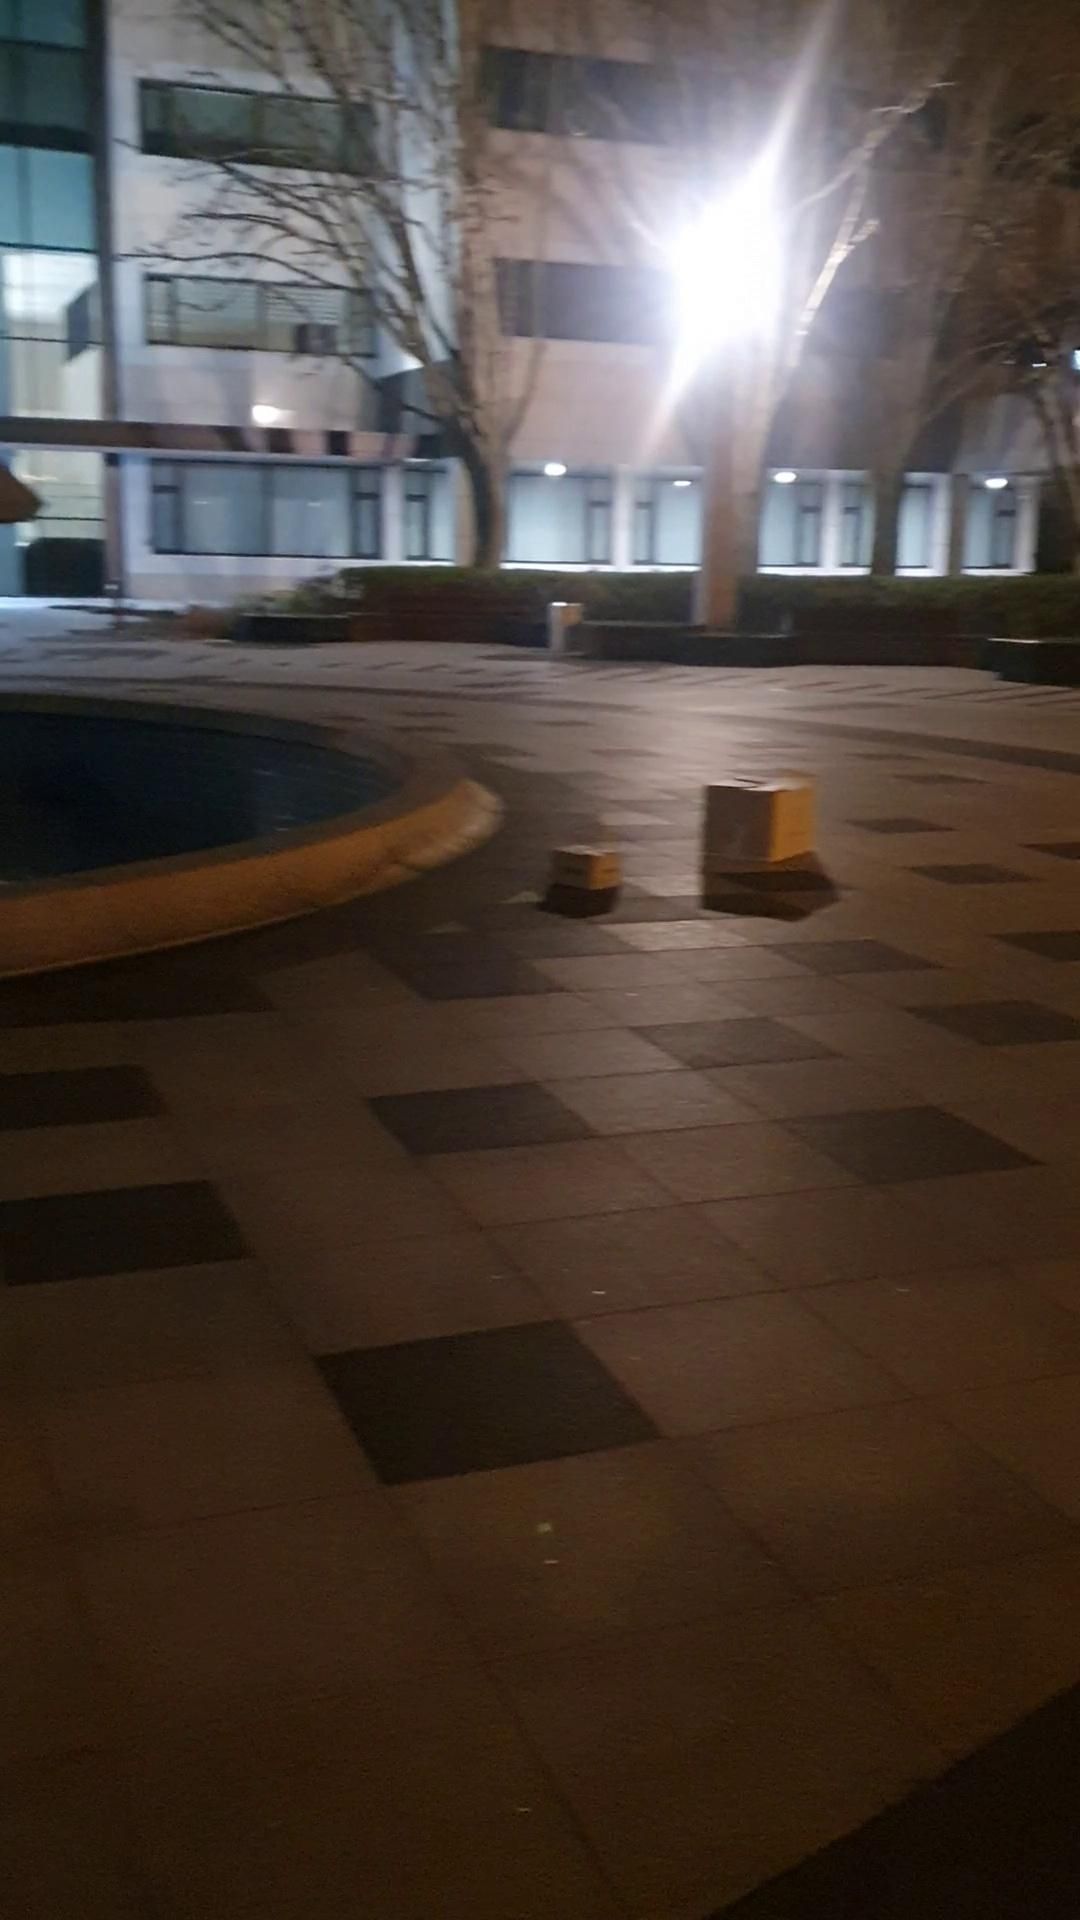Box: (696, 781, 829, 882), (541, 833, 628, 893)
